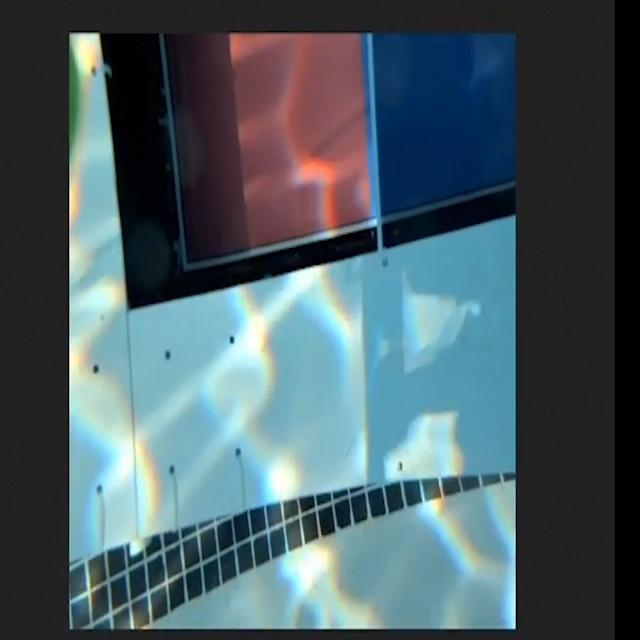Bin: (72, 32, 519, 490)
